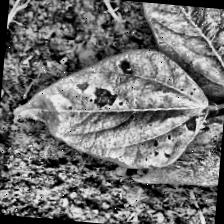ALS: (10, 34, 216, 170), (131, 2, 224, 96), (134, 106, 224, 192)
